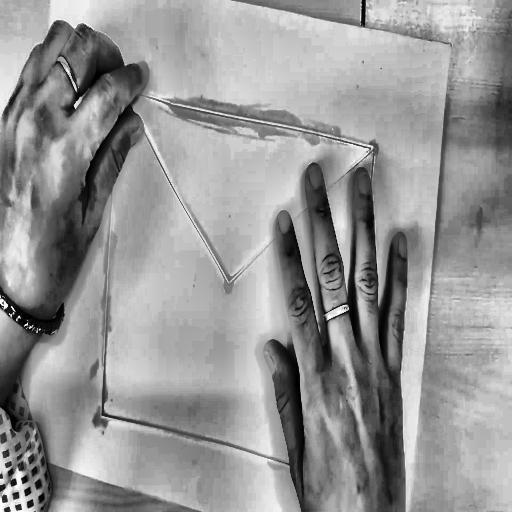envelop: (92, 78, 382, 494)
top_right: (447, 40, 453, 51)
